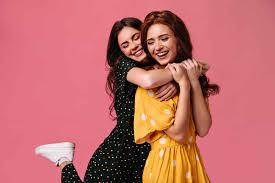Persons: (146, 11, 199, 76), (106, 16, 148, 71)
